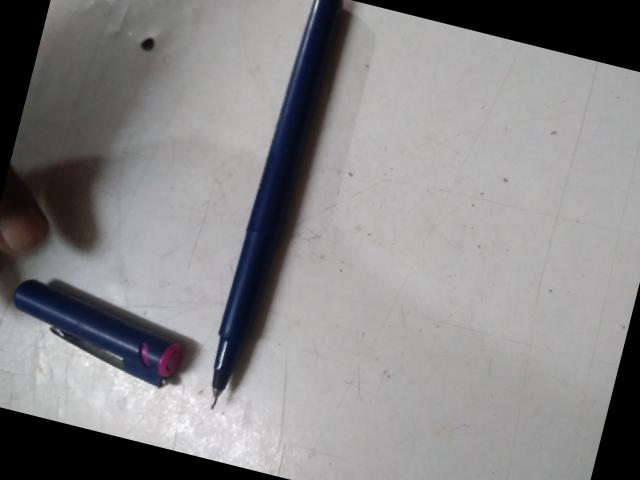PEN: (19, 0, 525, 378)
